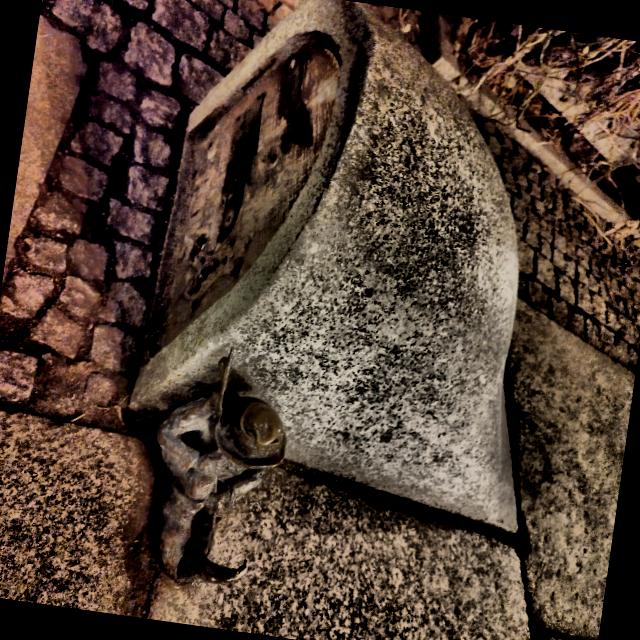Spioch: (157, 351, 287, 584)
